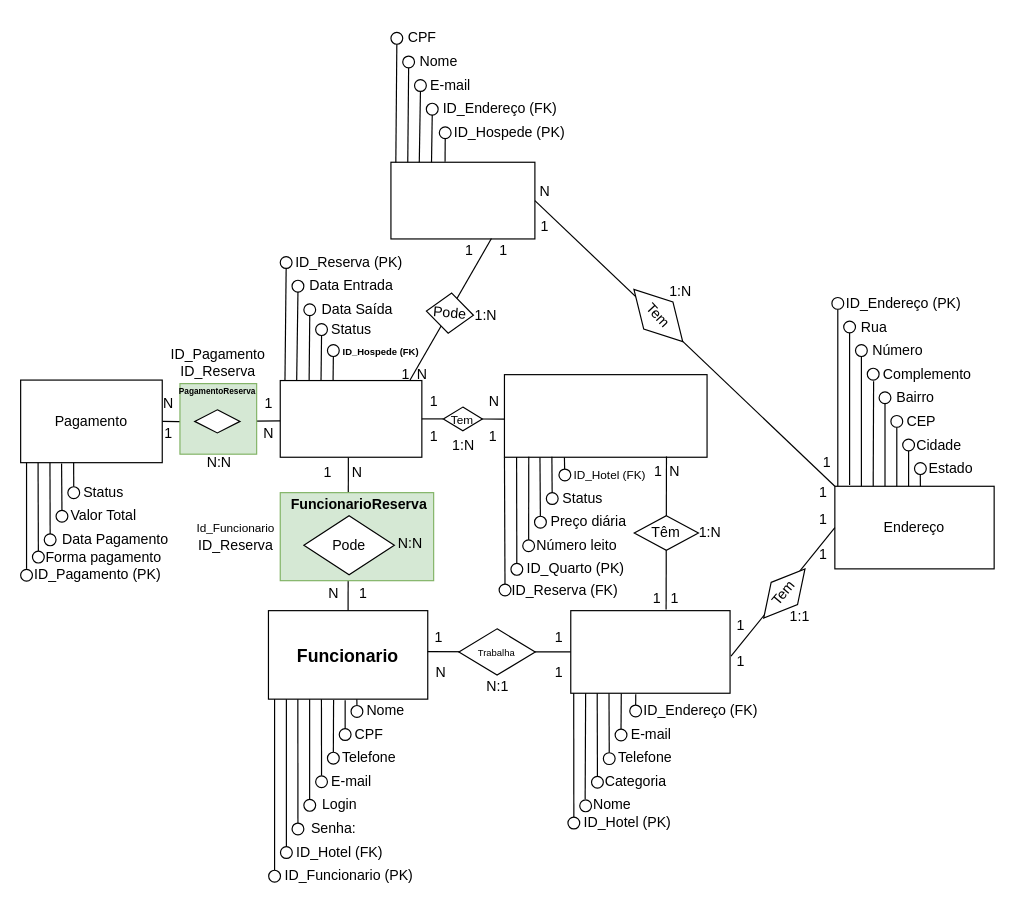
Some shapes in this 1015 by 913 pixel diagram are drawn without their labels. The box of each missing label's shape, as (x1, y1, x2, y2) in pixels:
Gera: (194, 409, 240, 433)
Hotel: (570, 609, 730, 693)
Hóspede: (390, 161, 535, 239)
Quarto: (503, 373, 707, 457)
Reserva: (279, 379, 422, 457)
